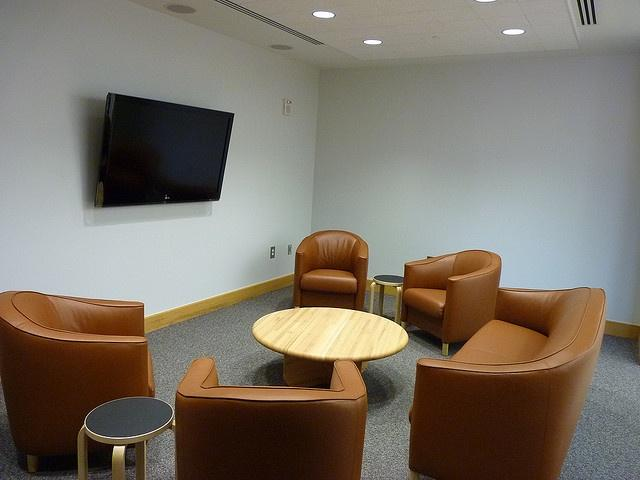AIO PC-Monitor-TV: (92, 91, 234, 208)
